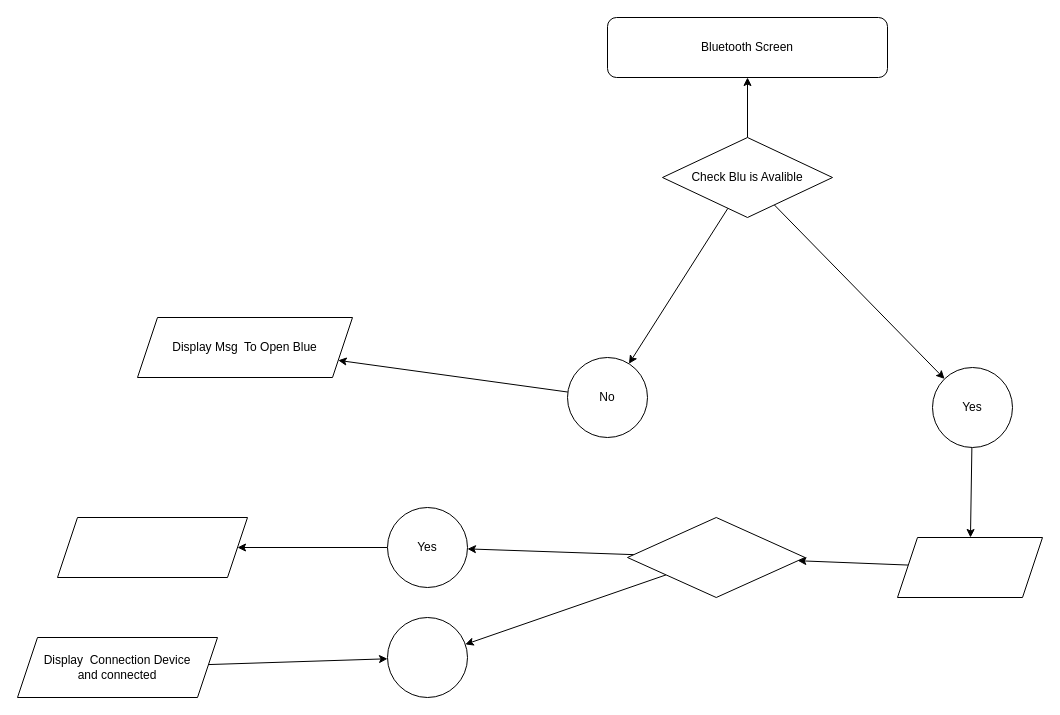
The diagram is 1060 pixels wide and 715 high, and some of its shapes have lost their labels. The centre of each missing label's shape, as x and y in pixels:
Blue Aready Connected: (152,547)
Connect To device: (969,567)
Is Connected Device: (715,557)
Not: (427,657)
